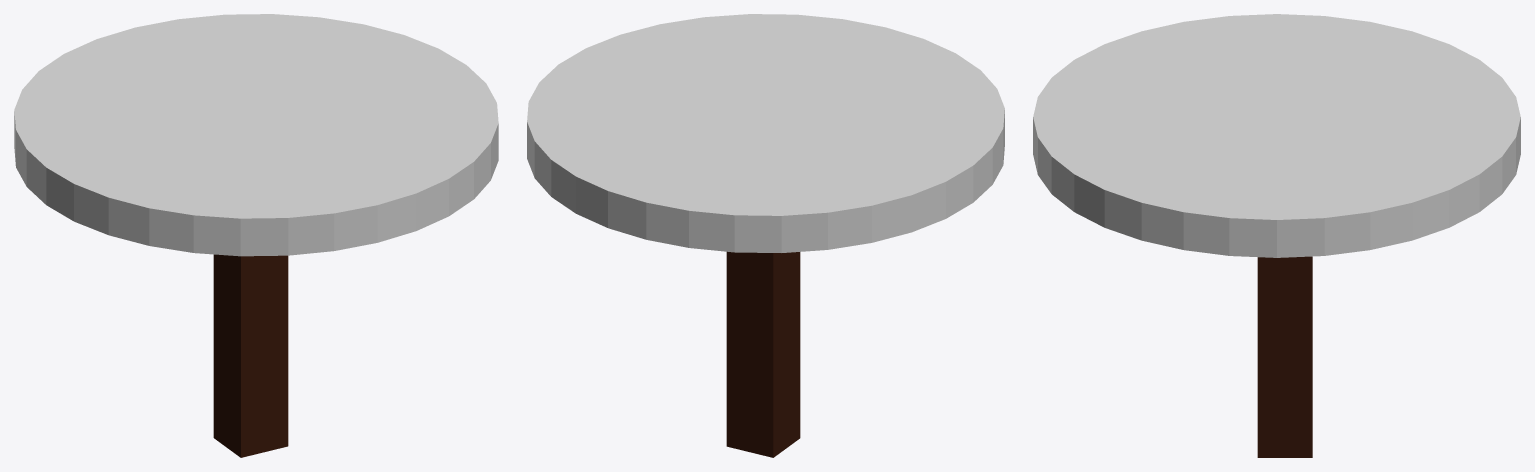
Rendered from Table.fbx.
3 views of the same model, side by side, from view 1: azimuth 30°, elevation 25°; view 2: azimuth 150°, elevation 25°; view 3: azimuth 270°, elevation 25° (orthographic).
Parts seen in each view (by area): view 1: Table; view 2: Table; view 3: Table.
Part boxes in pixels (bbox=[...]): Table: bbox=[14, 14, 498, 457]; Table: bbox=[527, 14, 1004, 457]; Table: bbox=[1033, 14, 1520, 457].
Bounding box in the file's own units: 142 × 142 × 106.
